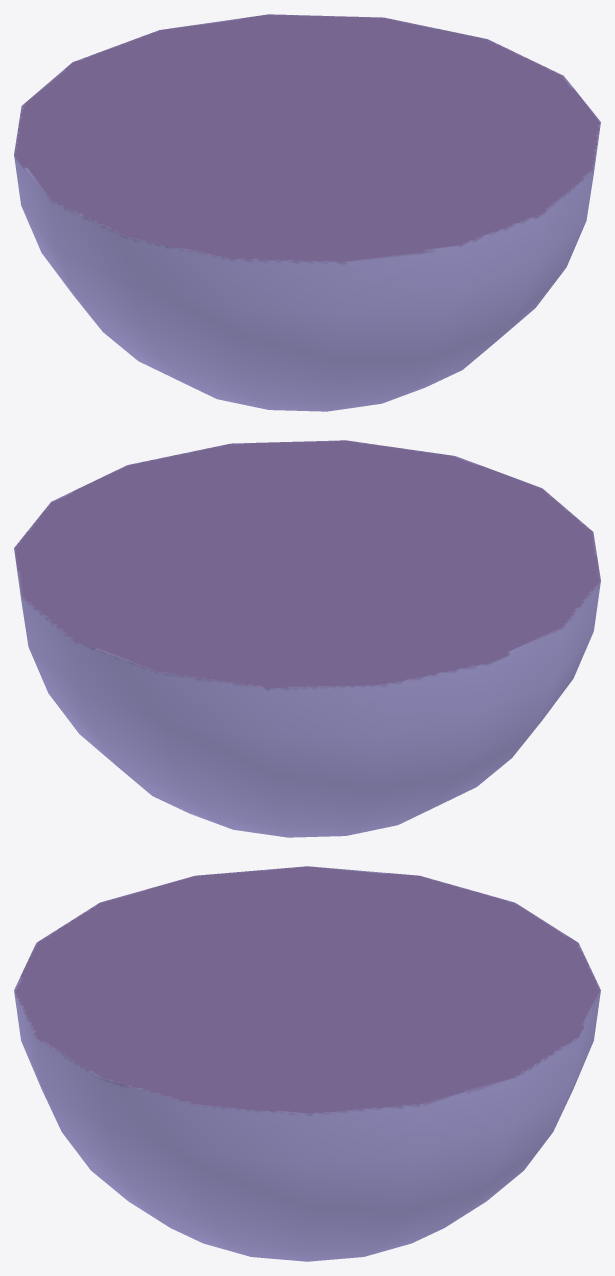
The model's file is gea_body_lower.glb.
3 renders of one model, top to bottom at view 1: azimuth 30°, elevation 25°; view 2: azimuth 150°, elevation 25°; view 3: azimuth 270°, elevation 25°, orthographic.
Parts seen in each view (by area): view 1: gea_body_lower; view 2: gea_body_lower; view 3: gea_body_lower.
Boxes of the visible parts, x1,y1,x2,y2 form: gea_body_lower: [14, 14, 600, 411]; gea_body_lower: [14, 440, 600, 837]; gea_body_lower: [14, 866, 600, 1261].
Bounding box in the file's own units: 1.36 × 0.6229 × 1.36.
Materials: 1 (1 with a texture image).
